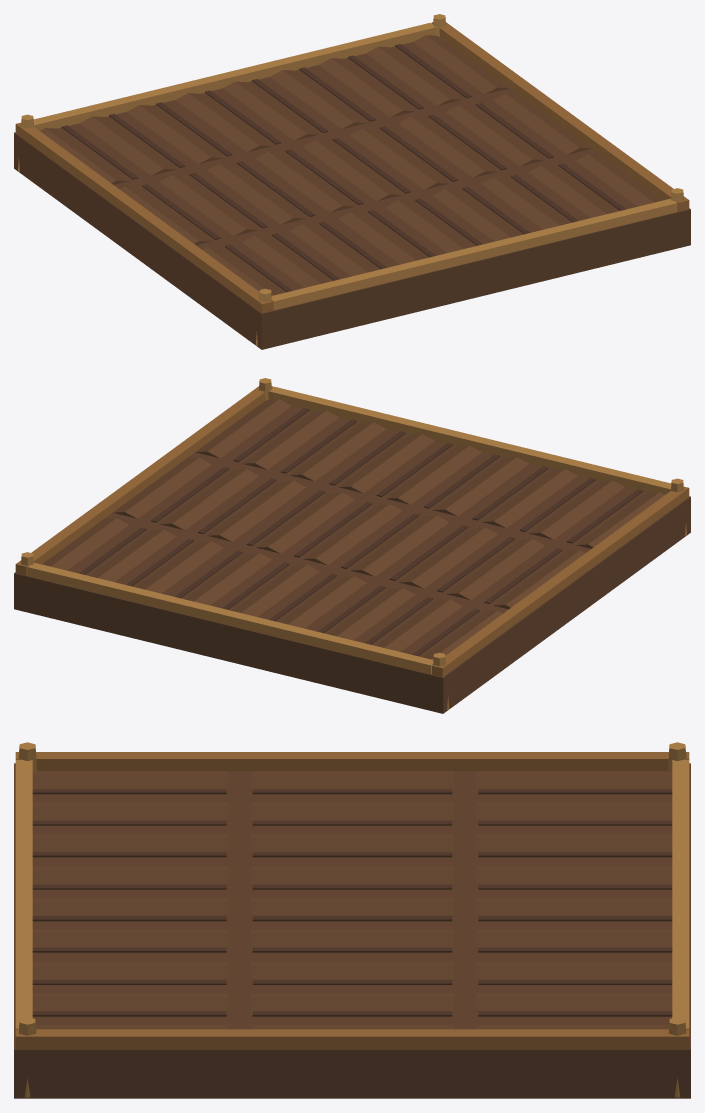
Rendered from farm-cell-bed.gltf.
3 renders of one model, top to bottom at view 1: azimuth 30°, elevation 25°; view 2: azimuth 150°, elevation 25°; view 3: azimuth 270°, elevation 25°, orthographic. The views are drawn at different scales.
Visible parts, largest first — view 1: farm-cell-bed; view 2: farm-cell-bed; view 3: farm-cell-bed.
Boxes of the visible parts, x1,y1,x2,y2 form: farm-cell-bed: (14,14,690,349); farm-cell-bed: (14,378,690,713); farm-cell-bed: (14,742,690,1098).
Size of the model in its own units: 2.01 by 0.235 by 2.
